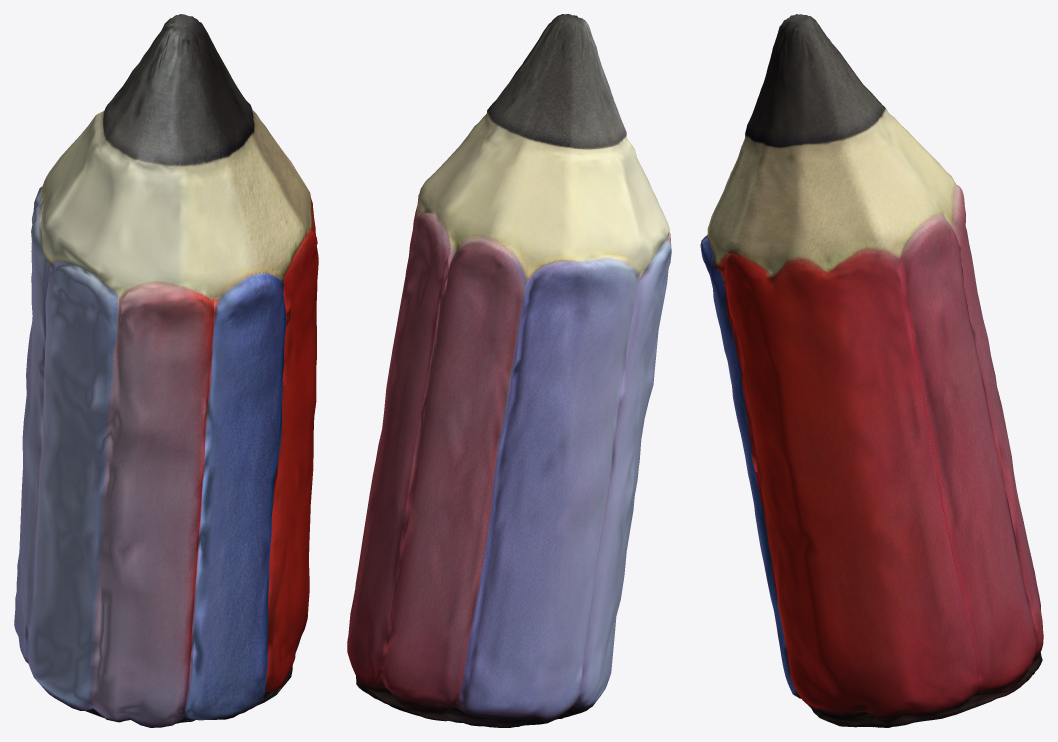
Rendered from Stack 6A - Pencil.glb.
3 renders of one model, left to right at view 1: azimuth 30°, elevation 25°; view 2: azimuth 150°, elevation 25°; view 3: azimuth 270°, elevation 25°, orthographic. The views are drawn at different scales.
Parts seen in each view (by area): view 1: Stack 6A - Pencil · mesh; view 2: Stack 6A - Pencil · mesh; view 3: Stack 6A - Pencil · mesh.
Part boxes in pixels (x1,y1,x2,y2): Stack 6A - Pencil · mesh: [14, 14, 318, 727]; Stack 6A - Pencil · mesh: [347, 14, 671, 727]; Stack 6A - Pencil · mesh: [700, 14, 1043, 727].
Bounding box in the file's own units: 0.4072 × 1 × 0.473.
1 material, 1 textured.
